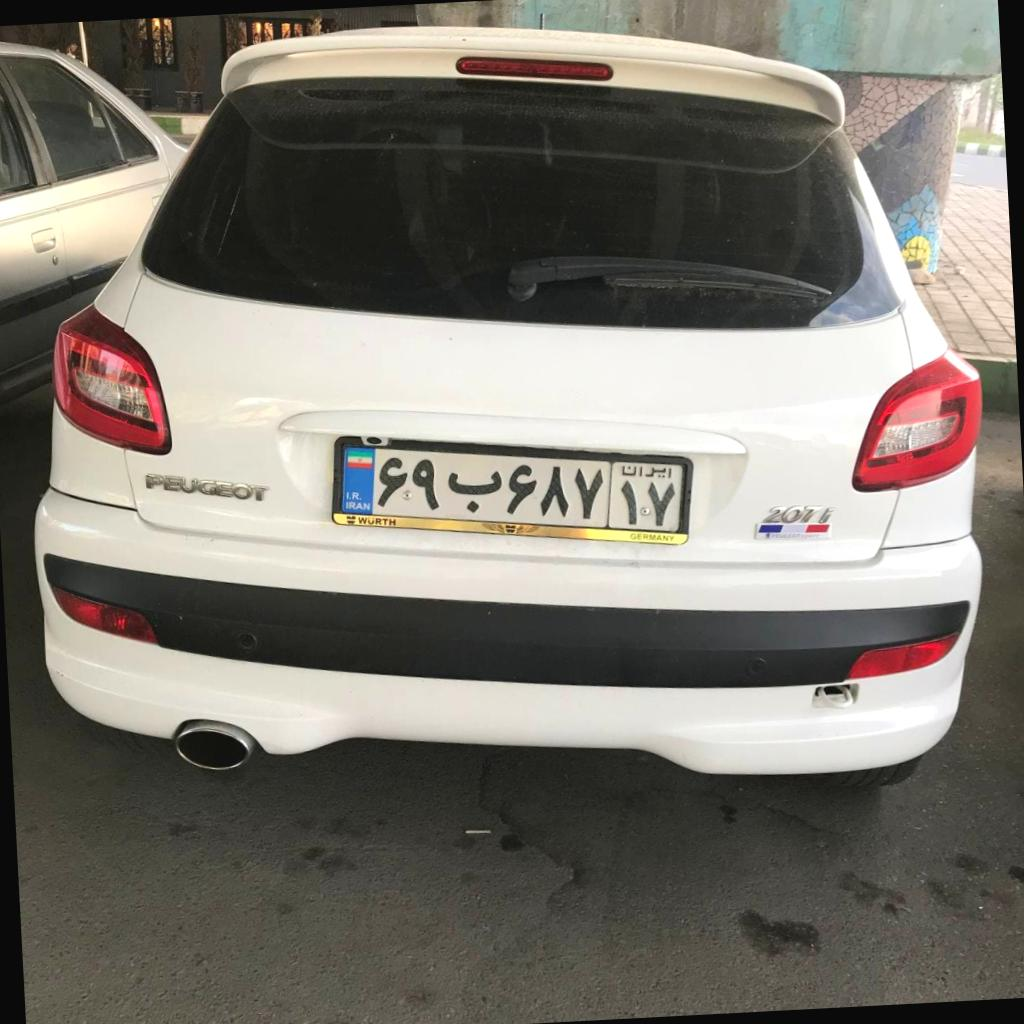Plates: (339, 444, 683, 533)
